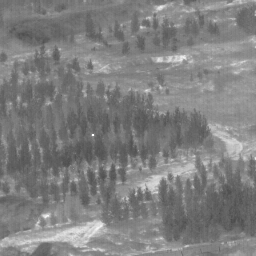aircraft: (92, 134, 94, 136)
